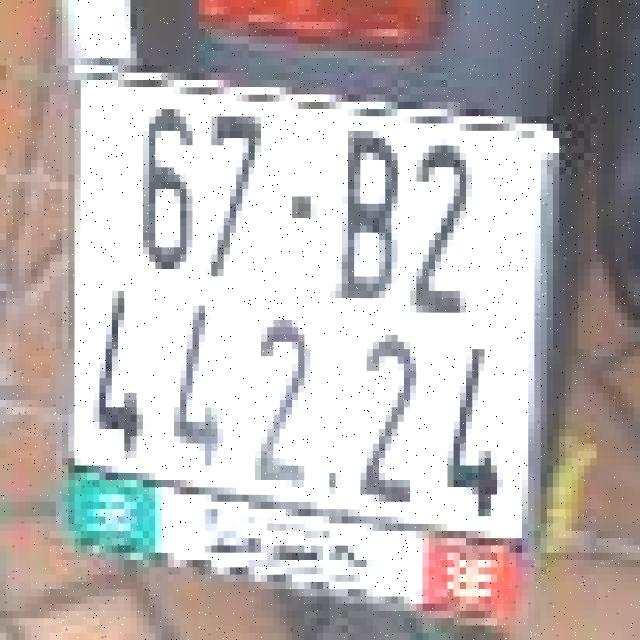2: (357, 331, 426, 505), (410, 138, 472, 320), (248, 313, 310, 487)
4: (438, 342, 513, 524), (168, 295, 230, 469), (90, 284, 146, 458)
6: (140, 105, 196, 273)
7: (205, 105, 267, 288)
B: (338, 124, 401, 306)
